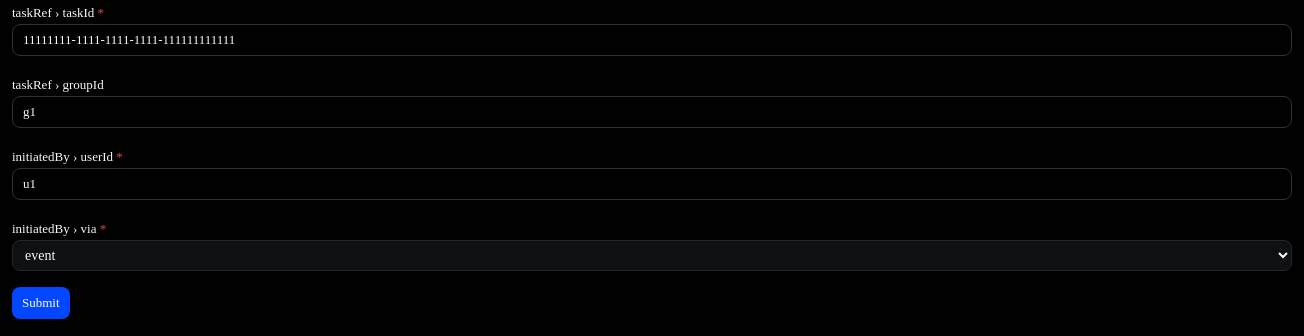
Test: InputFormFromSchema › updates the was-marker when the user edits a previously-matching field
Expected: the text "was:" is not shown
Replace the text in the field labelled "taskRef › groupId" with "g2" at (652, 112), box [12,96,1292,128]
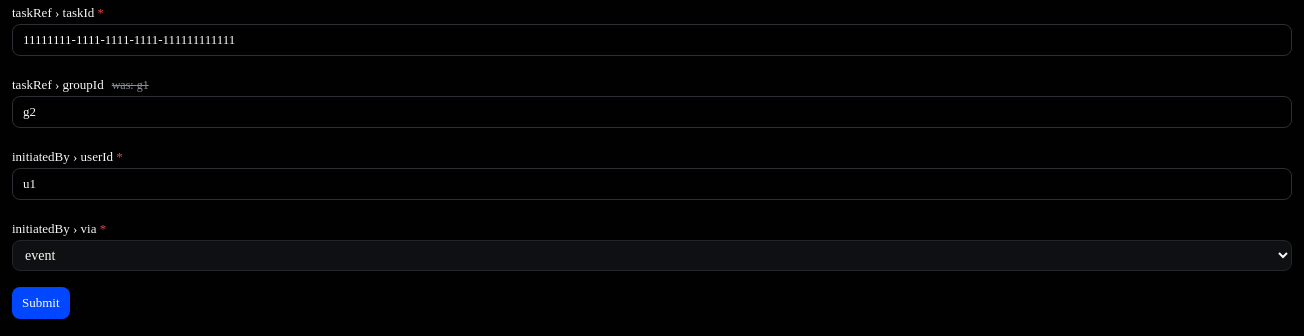
Expected: the text "was: g1" is shown, [112,78,149,92]
